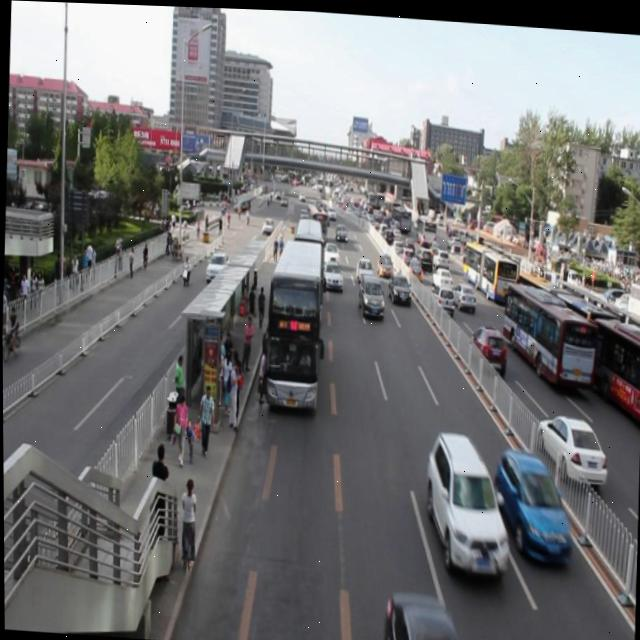car: (422, 426, 511, 570), (491, 444, 573, 558), (357, 270, 384, 318), (385, 267, 409, 299), (319, 256, 343, 287), (321, 235, 339, 263), (376, 250, 393, 277), (356, 253, 373, 277)
van: (264, 233, 323, 408), (288, 213, 325, 326)
